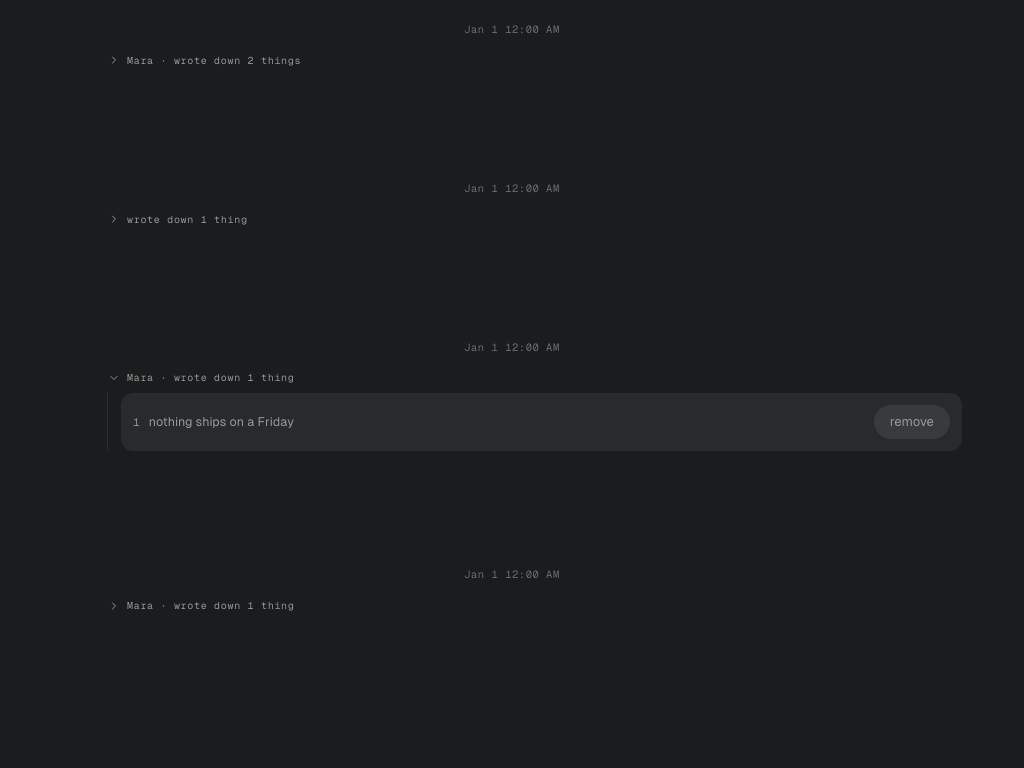
Test: a Handbook write in the transcript › keeps a removed entry on the block, without a control
Step 1. Click the 4th button with class "route" → (211, 606), box [102,597,962,614]
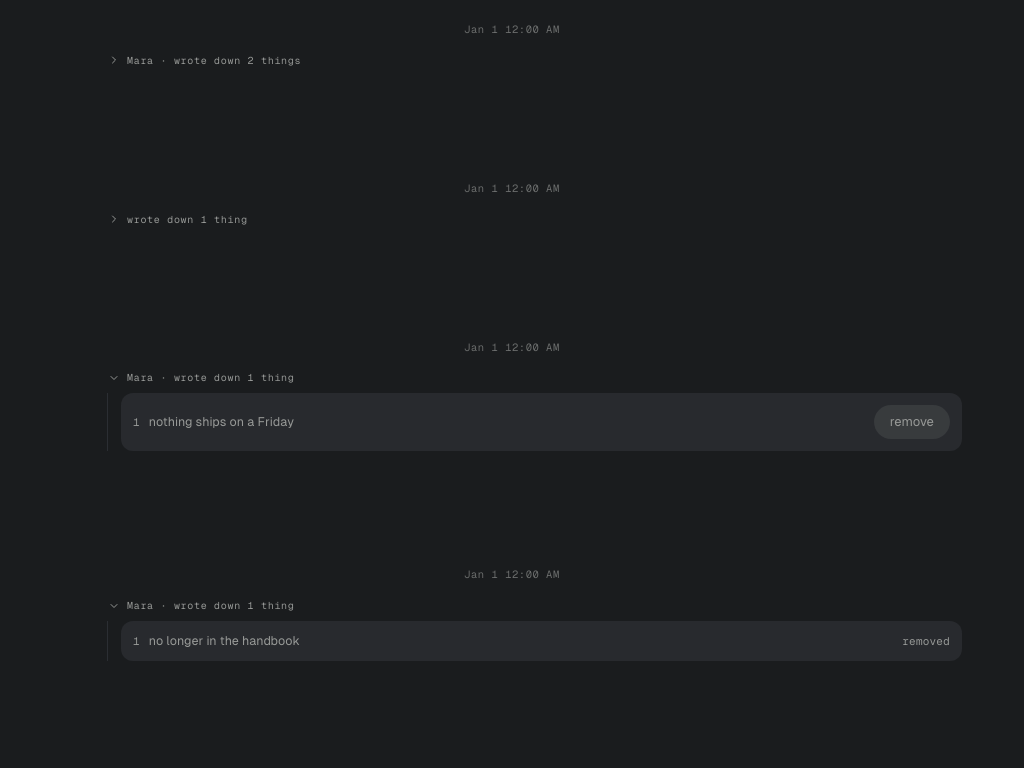
Check: the element with class "hbentry" shows "removed", box [902,634,950,648]
